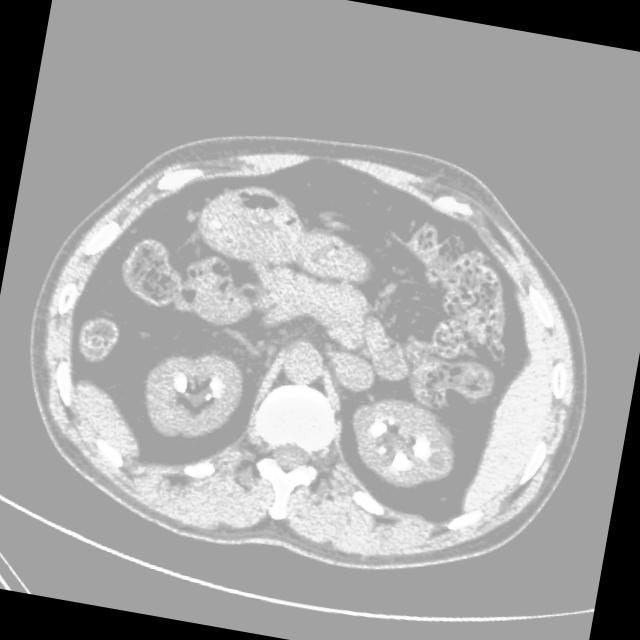STONE: (61, 215, 506, 538)
